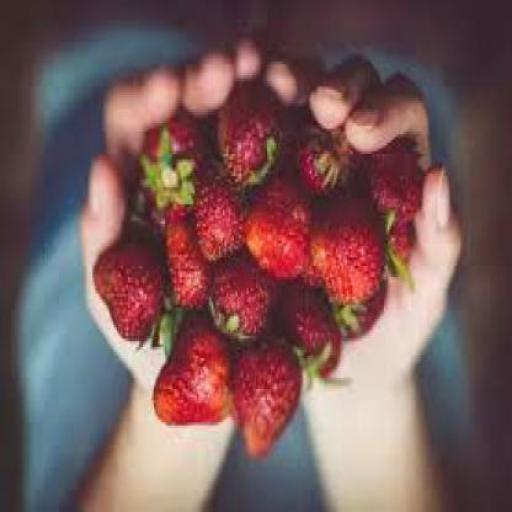biodegradable: (91, 247, 172, 355), (310, 196, 384, 314), (150, 319, 230, 428), (230, 347, 299, 462), (215, 79, 280, 193), (139, 112, 208, 218), (247, 174, 312, 283), (291, 106, 363, 204), (206, 255, 274, 347), (360, 140, 419, 236), (273, 290, 330, 389), (189, 165, 245, 263), (161, 216, 206, 316), (330, 282, 386, 344), (129, 176, 163, 240), (382, 221, 414, 285), (312, 330, 342, 386), (296, 264, 322, 290)
